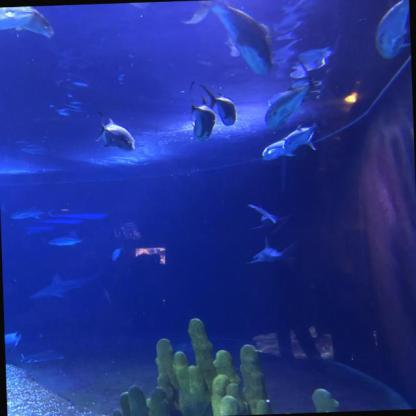fish: (181, 0, 278, 80), (263, 81, 313, 130), (371, 0, 411, 60), (197, 79, 237, 127), (2, 5, 56, 39), (90, 114, 136, 153), (240, 197, 290, 232), (282, 120, 319, 152), (190, 96, 216, 141), (260, 136, 296, 162), (43, 234, 90, 247), (5, 332, 20, 350)
shark: (26, 270, 99, 301), (244, 234, 299, 266), (10, 204, 54, 221)
stingray: (20, 349, 63, 363)
